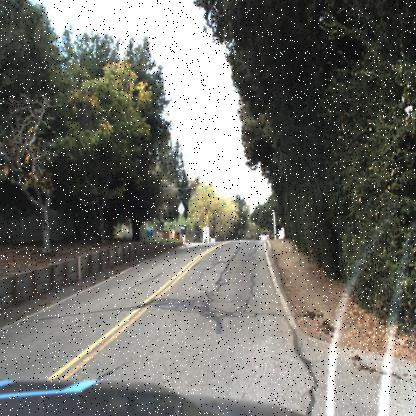car: (254, 223, 274, 250)
